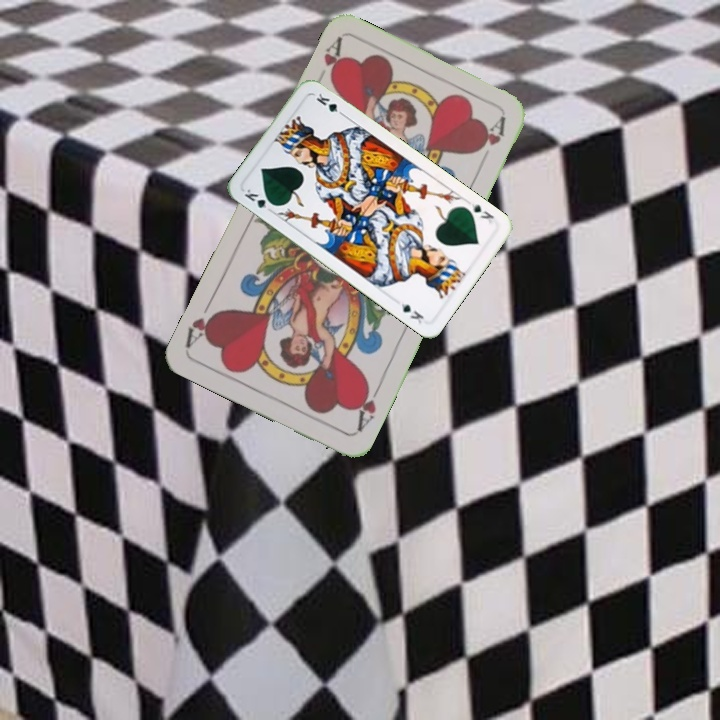GK: (240, 184, 278, 215), (467, 198, 496, 227)
HA: (310, 35, 347, 90), (351, 377, 384, 435)
